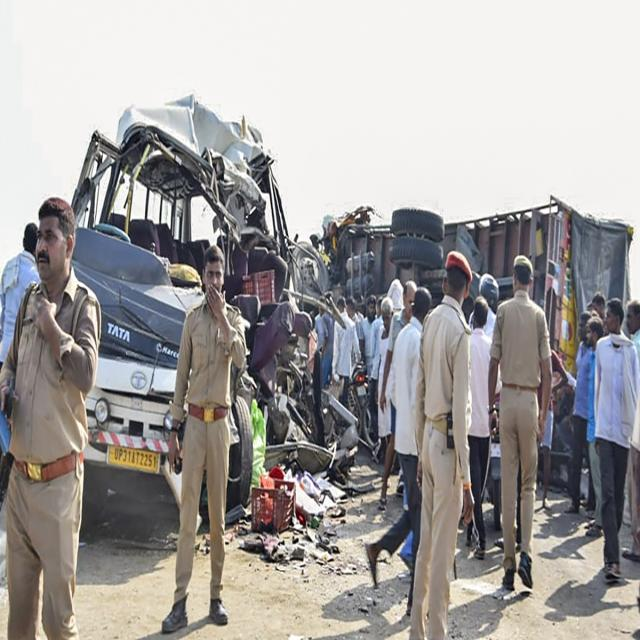accident: (72, 94, 326, 505), (335, 198, 632, 369)
